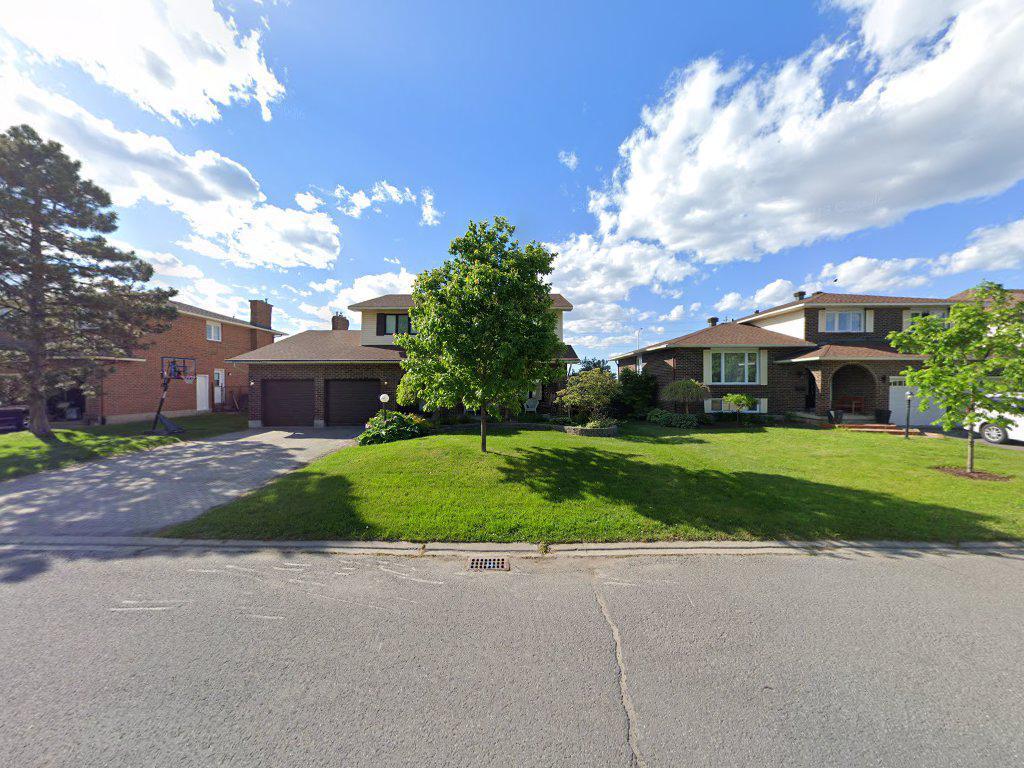trunk: (26, 361, 51, 452), (476, 399, 490, 473)
